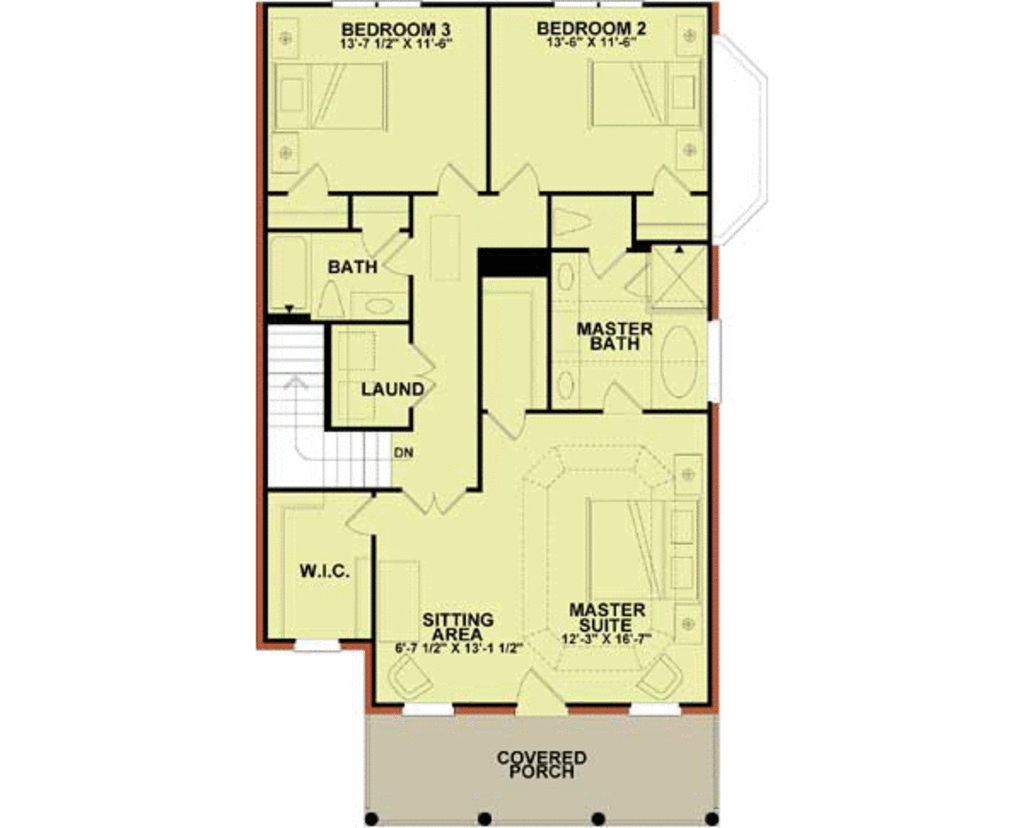bed: (577, 497, 706, 602), (268, 61, 386, 136), (583, 59, 702, 130)
door: (512, 667, 565, 715), (482, 399, 529, 442), (401, 488, 466, 519), (428, 162, 477, 201), (494, 160, 542, 198), (289, 165, 328, 203), (652, 165, 690, 202), (342, 497, 373, 542), (586, 243, 625, 278)
large_sink: (313, 280, 348, 324)
small_sink: (546, 358, 582, 409), (551, 250, 582, 306)
stairs: (260, 320, 394, 490)
tub: (647, 307, 707, 415), (266, 231, 313, 315)
